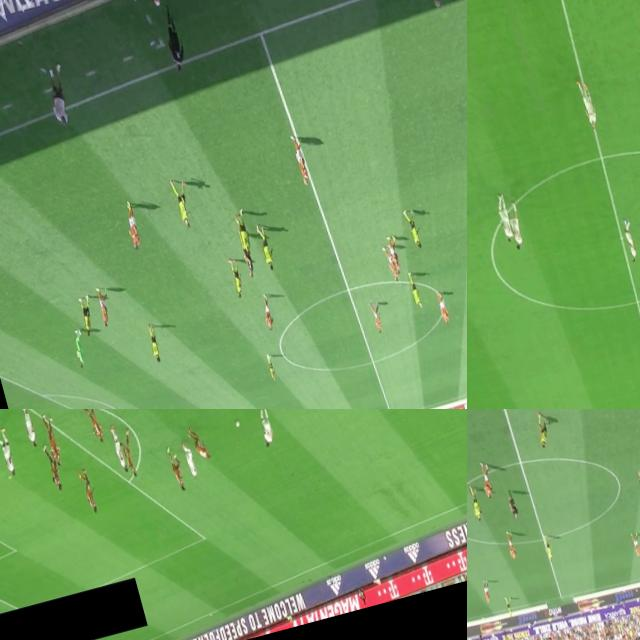player: (162, 444, 192, 498), (115, 424, 142, 482), (38, 412, 65, 467), (76, 467, 104, 520), (289, 133, 315, 190), (40, 442, 66, 498), (254, 222, 278, 274), (184, 424, 212, 468), (576, 79, 600, 130), (0, 424, 20, 483), (172, 181, 196, 230), (15, 409, 43, 451), (78, 409, 108, 448), (507, 202, 528, 254), (619, 216, 640, 267), (402, 204, 424, 248), (380, 240, 402, 284), (253, 409, 277, 449), (180, 442, 202, 485), (124, 204, 144, 251), (496, 196, 516, 243), (110, 428, 130, 474), (227, 258, 247, 300), (70, 326, 88, 368), (145, 323, 163, 364), (477, 461, 496, 498), (92, 288, 110, 327), (433, 290, 452, 326), (262, 349, 280, 386), (406, 272, 424, 308), (79, 298, 95, 338), (236, 214, 252, 254), (535, 414, 553, 448), (260, 296, 276, 330), (386, 238, 402, 272), (468, 486, 483, 522), (370, 304, 386, 335), (540, 531, 554, 563), (480, 578, 494, 608), (502, 596, 515, 623), (629, 530, 640, 559), (504, 534, 516, 558), (636, 467, 640, 503)
